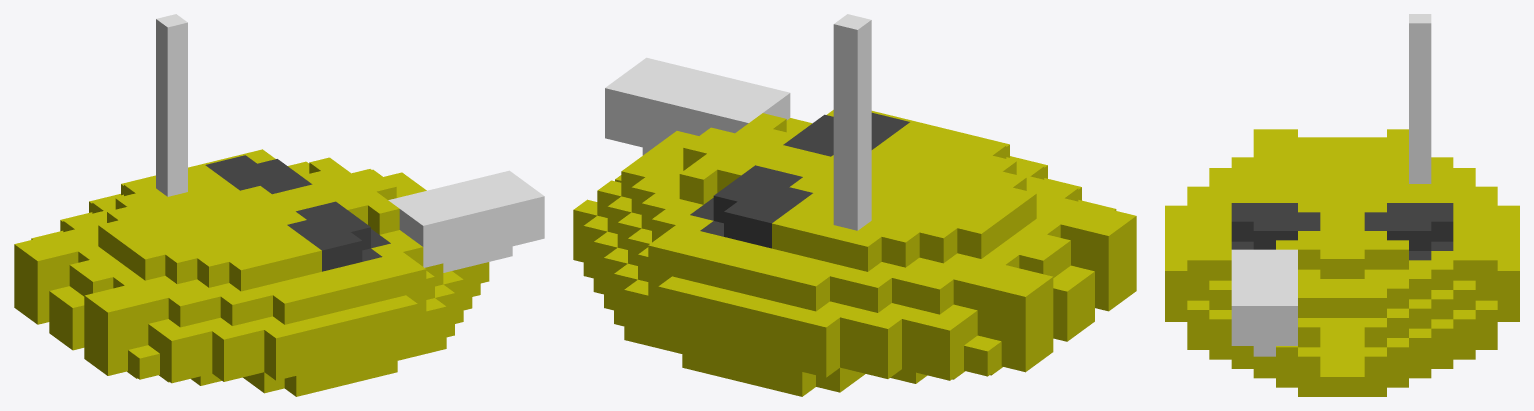
File: MiddleTankTower.obj
3 views of the same model, side by side, from view 1: azimuth 30°, elevation 25°; view 2: azimuth 150°, elevation 25°; view 3: azimuth 270°, elevation 25° (orthographic). The views are drawn at different scales.
Bounding box in the file's own units: 2.1 × 1.4 × 1.6.
1 material, 1 textured.
